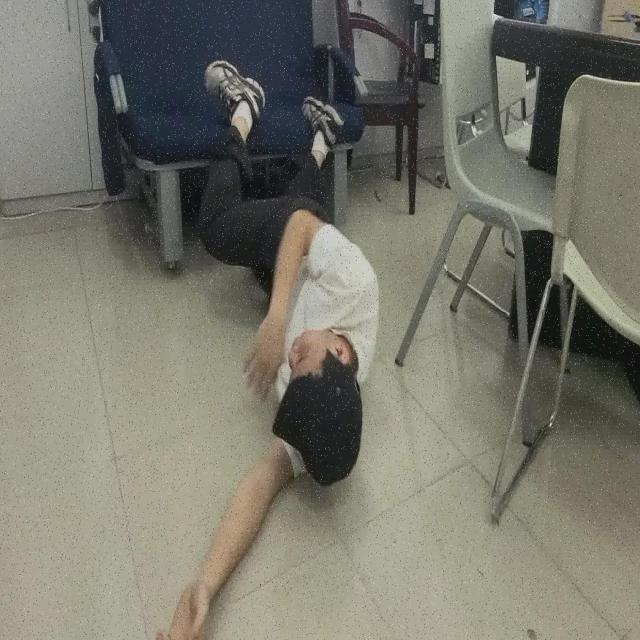fall: (150, 60, 381, 640)
